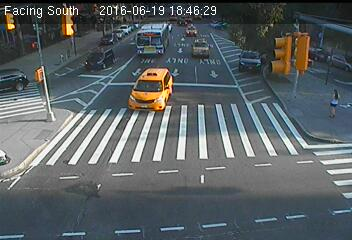neg: (43, 169, 72, 208), (135, 72, 161, 107), (270, 48, 296, 83), (170, 176, 195, 210), (188, 113, 212, 145), (43, 98, 67, 130), (218, 149, 238, 176), (290, 170, 308, 195), (92, 173, 109, 196), (119, 136, 136, 159), (119, 31, 136, 54), (77, 55, 94, 77), (196, 34, 212, 56)
pos: (324, 85, 348, 117)
